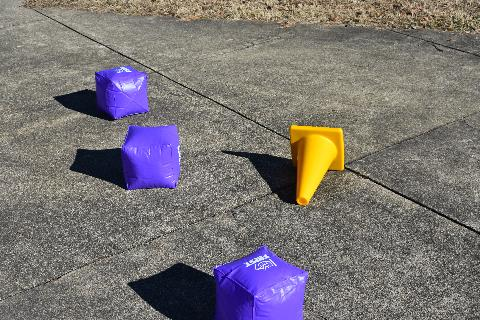cone: (289, 125, 345, 207)
cube: (213, 244, 309, 320), (120, 124, 182, 190), (95, 64, 149, 120)
